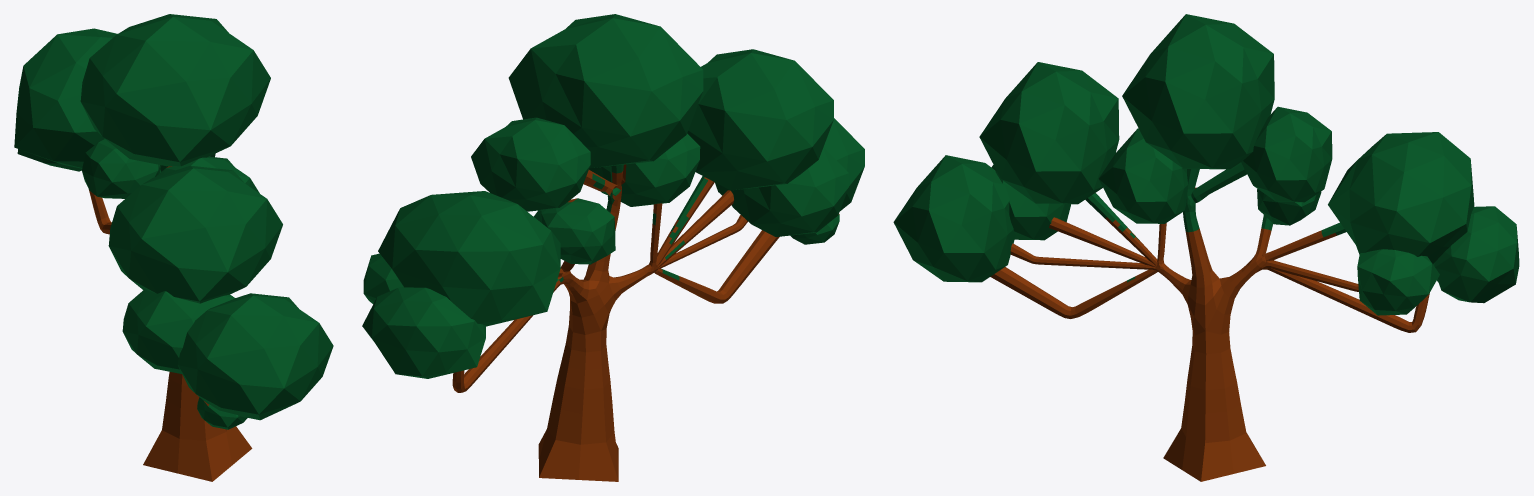
The model's file is tree for assignment 2.fbx.
3 views of the same model, side by side, from view 1: azimuth 30°, elevation 25°; view 2: azimuth 150°, elevation 25°; view 3: azimuth 270°, elevation 25° (orthographic). The views are drawn at different scales.
Visible parts, largest first — view 1: Tree 1; view 2: Tree 1; view 3: Tree 1.
Part boxes in pixels (x1,y1,x2,y2): Tree 1: (14, 14, 333, 481); Tree 1: (362, 14, 864, 481); Tree 1: (893, 14, 1519, 481).
Bounding box in the file's own units: 777 × 1196 × 1594.
